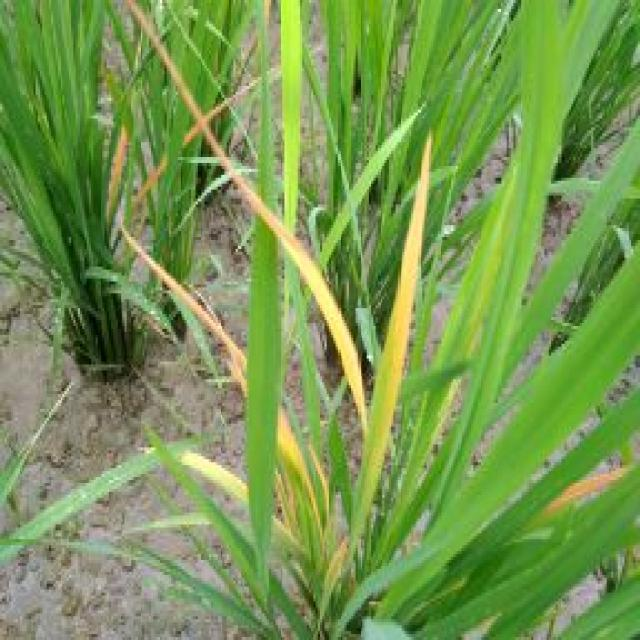Tungro: (108, 1, 364, 406), (225, 184, 372, 444), (374, 122, 438, 515), (109, 0, 250, 168), (119, 226, 248, 396), (387, 135, 434, 340), (316, 302, 371, 464), (275, 417, 326, 535), (533, 463, 633, 522), (278, 0, 304, 219), (106, 126, 131, 230)
